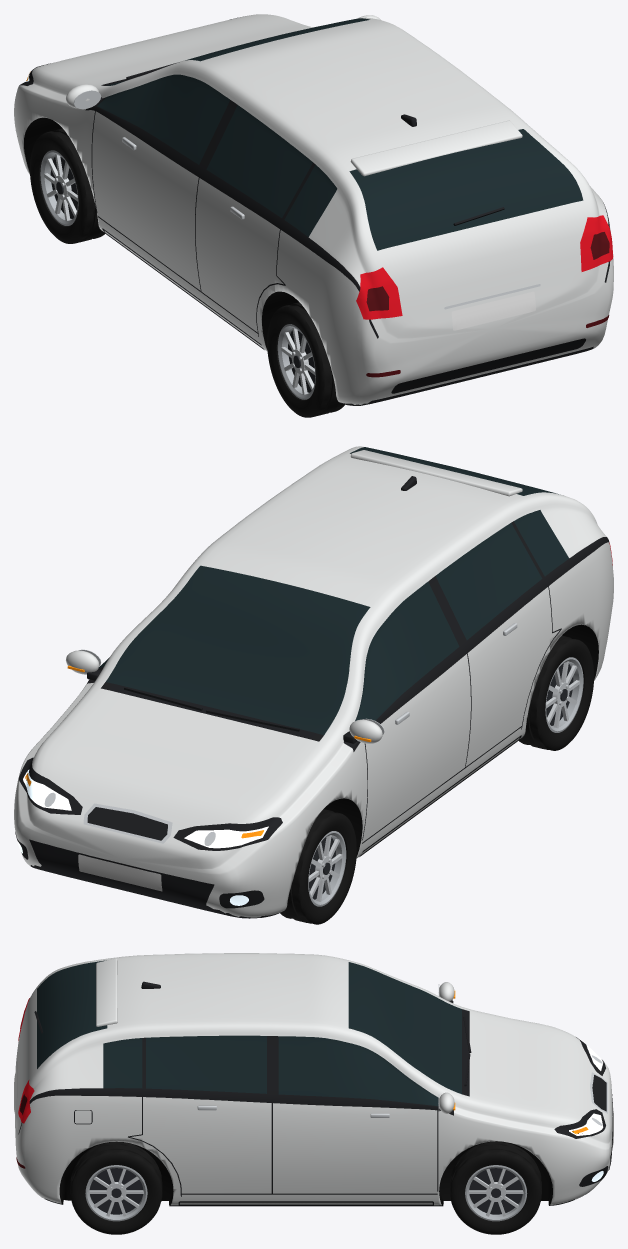
File: pride.glb
3 views of the same model, one above another, from view 1: azimuth 30°, elevation 25°; view 2: azimuth 150°, elevation 25°; view 3: azimuth 270°, elevation 25° (orthographic). The views are drawn at different scales.
Visible parts, largest first — view 1: Body, Wheel_RL_mesh, Wheel_FL_mesh; view 2: Body, Wheel_FL_mesh, Wheel_RL_mesh; view 3: Body, Wheel_FR_mesh, Wheel_RR_mesh.
Part boxes in pixels (box(x1,y1,x2,y2)): Body: box(14, 14, 613, 405); Wheel_RL_mesh: box(267, 302, 344, 417); Wheel_FL_mesh: box(30, 128, 105, 243); Body: box(14, 446, 613, 918); Wheel_FL_mesh: box(280, 809, 356, 924); Wheel_RL_mesh: box(518, 635, 594, 750); Body: box(14, 953, 613, 1206); Wheel_FR_mesh: box(450, 1141, 541, 1234); Wheel_RR_mesh: box(70, 1141, 162, 1234).
Bounding box in the file's own units: 1.97 × 1.5 × 4.06.
